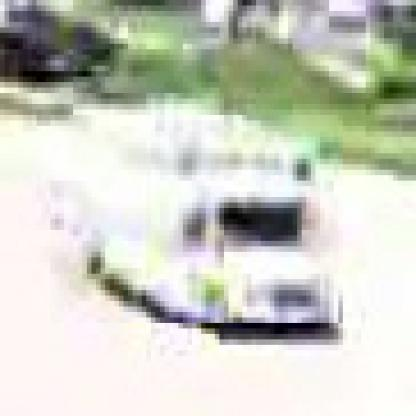truck: (47, 116, 344, 329)
